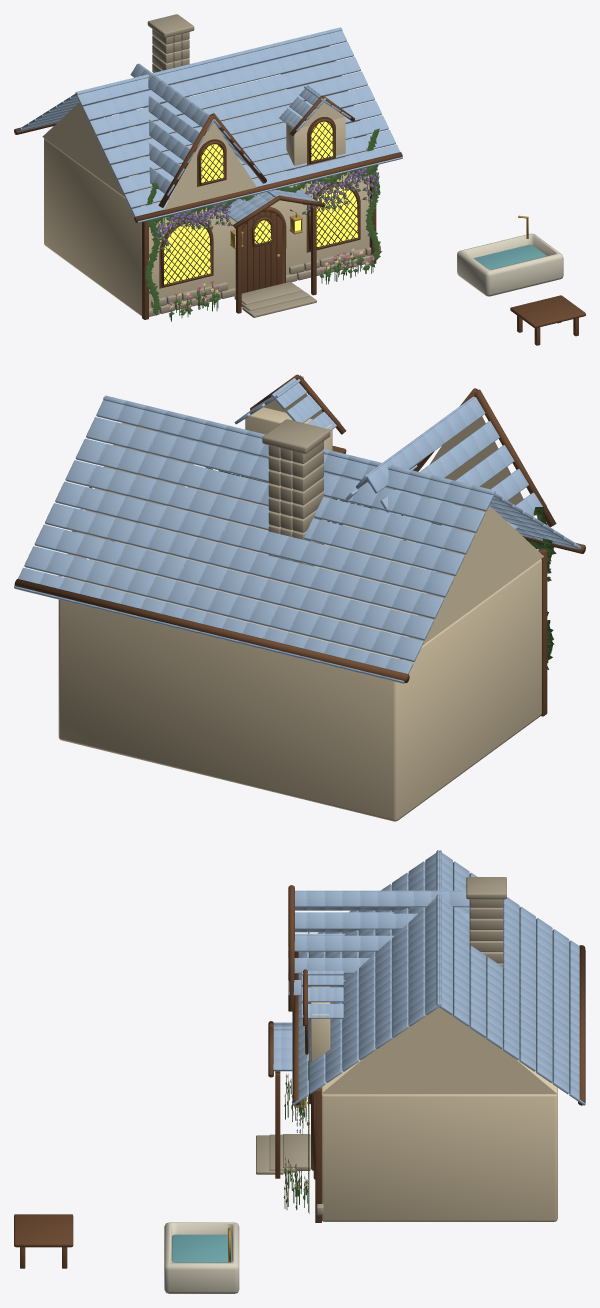
File: cottage.glb
3 views of the same model, one above another, from view 1: azimuth 30°, elevation 25°; view 2: azimuth 150°, elevation 25°; view 3: azimuth 270°, elevation 25° (orthographic). The views are drawn at different scales.
Visible parts, largest first — view 1: CottageBody, ClimbingIvy, CarvedDragonBath, SideGable, FrontGable, LeftArchedWindowWarmGlass, RightArchedWindowWarmGlass, MainRoofEave.001, purple, GardenTableTop, DormerBody, BathWater (+16 smaller); view 2: CottageBody, SideGable, MainRoofEave, ChimneyCap, FrontGable, FrontGableBargeboard, DormerBody, CornerTimber, ClimbingIvy, MainRoofSlate.076, MainRoofSlate.095, MainRoofSlate.057 (+4 smaller); view 3: CottageBody, SideGable.001, CarvedDragonBath, GardenTableTop, BathWater, MainRoofEave, EntranceStep.002, ChimneyCap, DormerBody, CornerTimber.001, FrontGableBargeboard.001, MainRoofEave.001 (+3 smaller).
Part boxes in pixels (<box>): CottageBody: <box>44,89,369,316</box>; ClimbingIvy: <box>145,128,381,317</box>; CarvedDragonBath: <box>457,233,563,296</box>; SideGable: <box>42,102,140,207</box>; FrontGable: <box>164,122,256,209</box>; LeftArchedWindowWarmGlass: <box>164,223,210,284</box>; RightArchedWindowWarmGlass: <box>316,186,357,246</box>; MainRoofEave.001: <box>134,152,402,222</box>; purple: <box>157,168,379,251</box>; GardenTableTop: <box>510,295,585,328</box>; DormerBody: <box>286,116,345,170</box>; BathWater: <box>473,244,546,269</box>; CottageBody: <box>58,487,541,821</box>; SideGable: <box>399,506,543,659</box>; MainRoofEave: <box>14,579,409,682</box>; ChimneyCap: <box>262,419,330,453</box>; FrontGable: <box>429,416,523,505</box>; FrontGableBargeboard: <box>474,389,556,527</box>; DormerBody: <box>245,406,332,498</box>; CornerTimber: <box>538,548,547,716</box>; ClimbingIvy: <box>218,470,556,669</box>; MainRoofSlate.076: <box>422,571,454,597</box>; MainRoofSlate.095: <box>412,592,444,618</box>; MainRoofSlate.057: <box>432,549,464,575</box>; CottageBody: <box>321,1048,557,1221</box>; SideGable.001: <box>321,1007,557,1094</box>; CarvedDragonBath: <box>164,1222,239,1293</box>; GardenTableTop: <box>14,1214,73,1247</box>; BathWater: <box>172,1234,231,1262</box>; MainRoofEave: <box>578,945,585,1105</box>; EntranceStep.002: <box>283,1134,310,1170</box>; ChimneyCap: <box>466,877,506,899</box>; DormerBody: <box>310,986,330,1061</box>; CornerTimber.001: <box>315,1088,321,1222</box>; FrontGableBargeboard.001: <box>288,887,294,1011</box>; MainRoofEave.001: <box>293,951,300,1105</box>.
Size of the model in its own units: 12.95 by 7.33 by 14.46.
